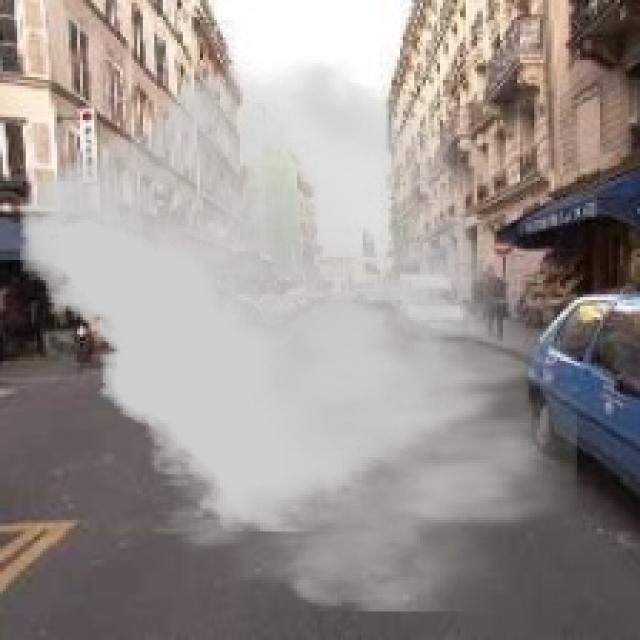smoke: (20, 60, 577, 611)
